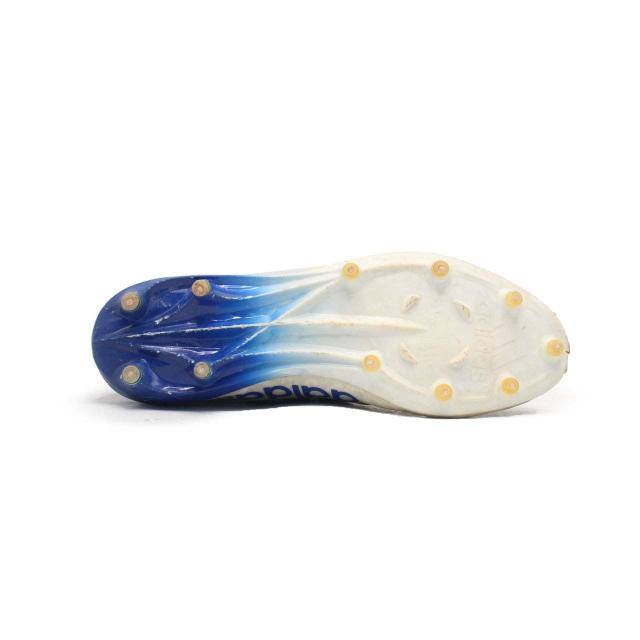outersole: (93, 251, 572, 417)
